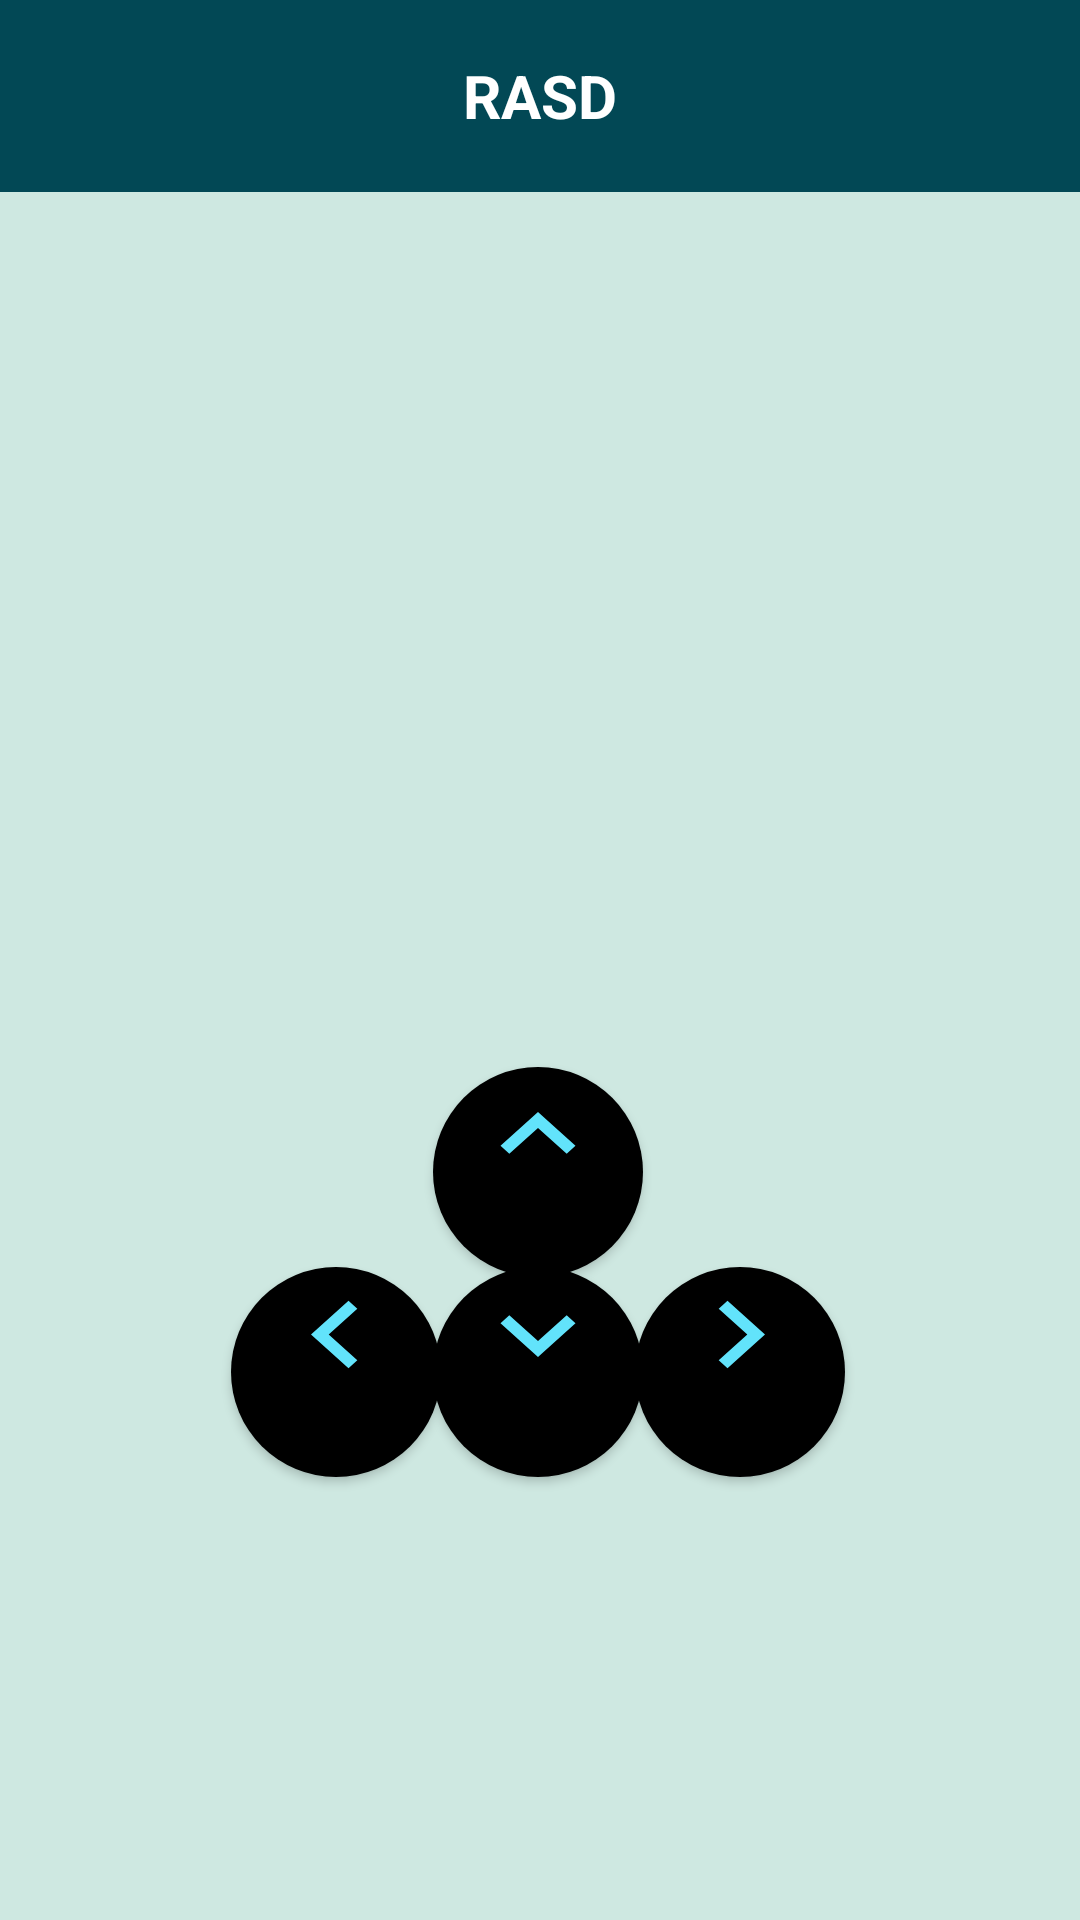

Where icons sit on this 1080 × 1920 app screen, as [x1=x1, y1=y1, x2=x2, y2=y2]:
circlebtn: [x1=433, y1=1067, x2=643, y2=1277], [x1=231, y1=1267, x2=441, y2=1477], [x1=433, y1=1267, x2=643, y2=1477], [x1=635, y1=1267, x2=845, y2=1477]
